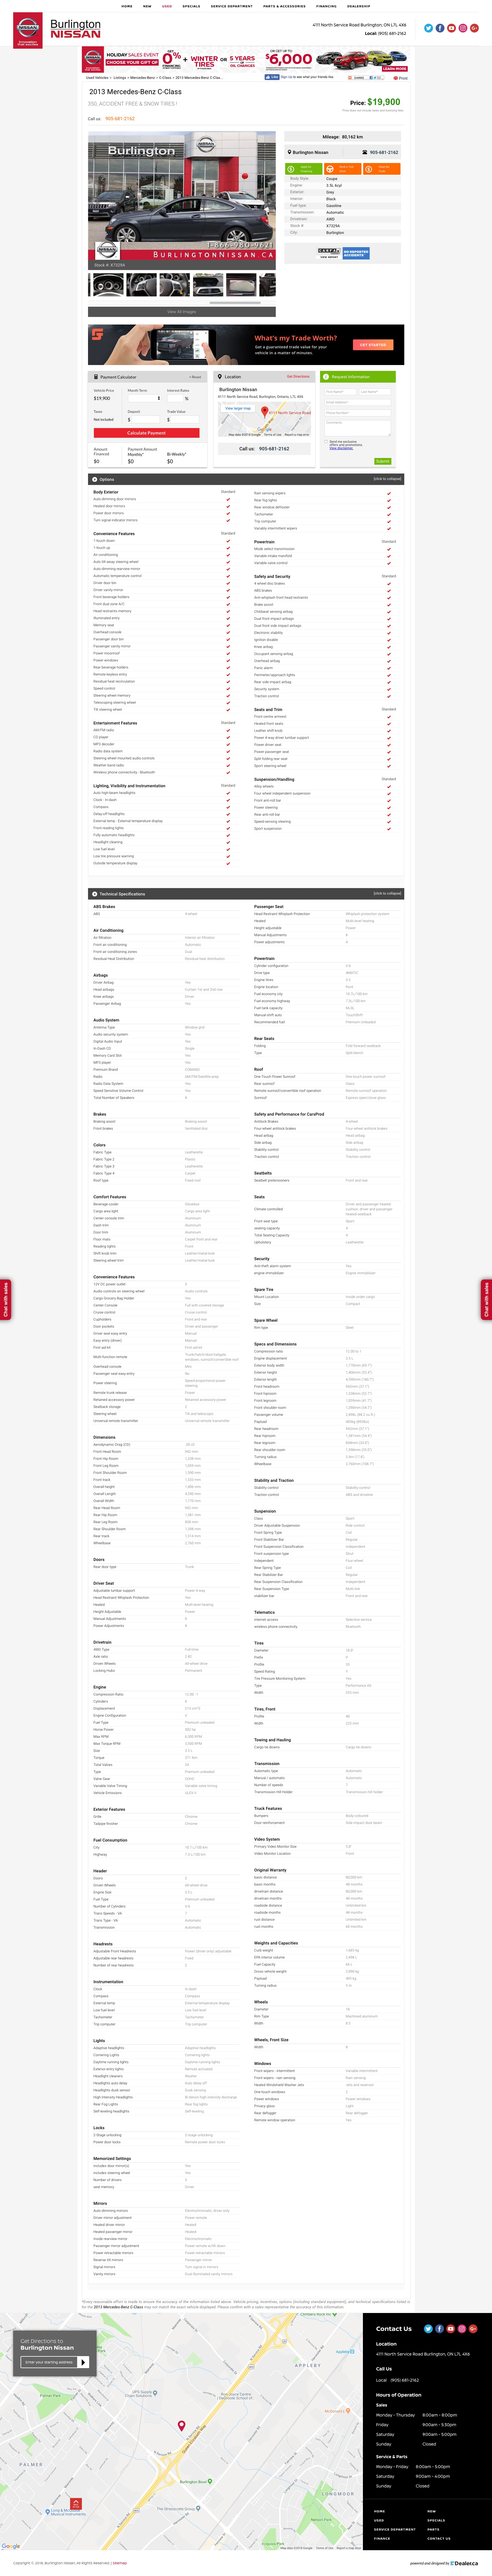car: (263, 195, 276, 209)
